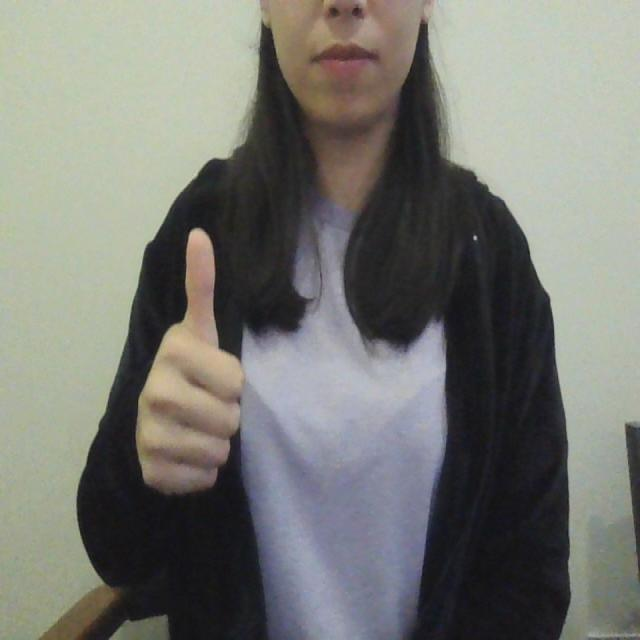Tamam: (118, 220, 256, 498)
